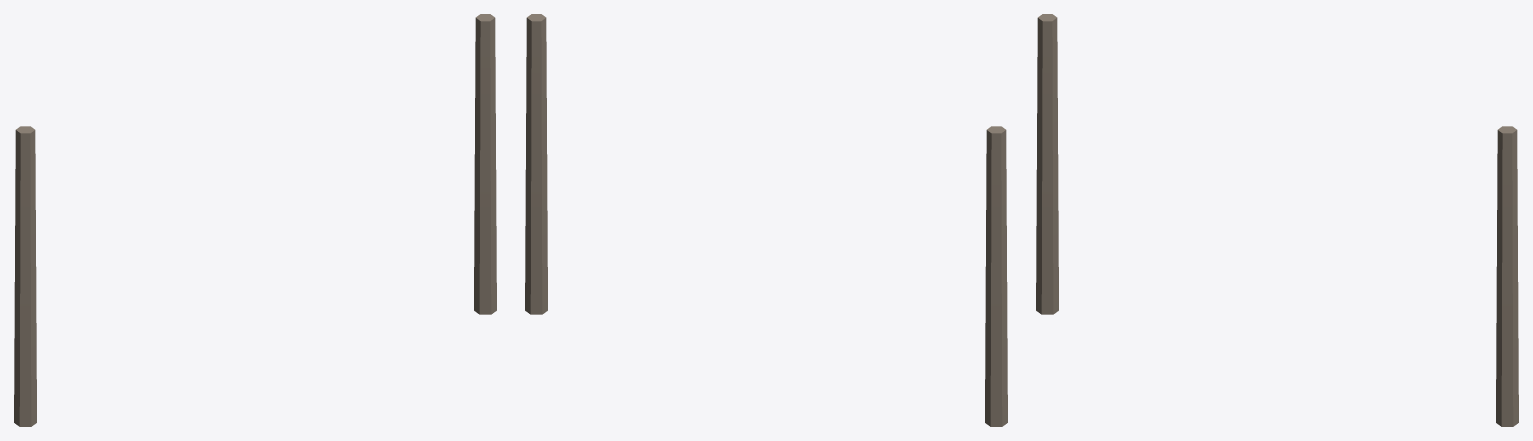
File: valla_frame.glb
3 views of the same model, side by side, from view 1: azimuth 30°, elevation 25°; view 2: azimuth 150°, elevation 25°; view 3: azimuth 330°, elevation 25° (orthographic).
Parts seen in each view (by area): view 1: valla_frame; view 2: valla_frame; view 3: valla_frame.
Part boxes in pixels (x1=…): valla_frame: x1=14, y1=14, x2=496, y2=426; valla_frame: x1=525, y1=14, x2=1007, y2=426; valla_frame: x1=1036, y1=14, x2=1518, y2=426.
Bounding box in the file's own units: 2.39 × 1.4 × 0.1.
